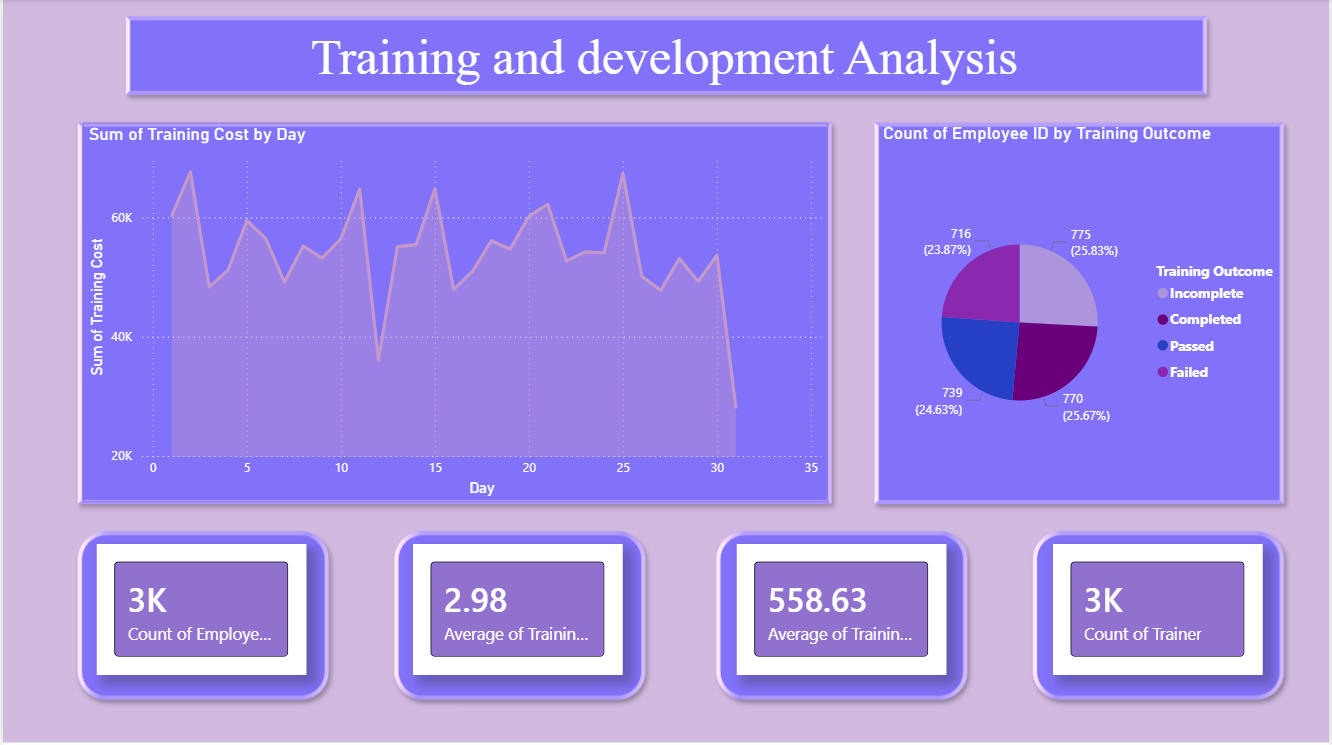

This screenshot's page, from the dashboard's own definition file:
{"tool":"powerbi","page":{"name":"Page 5","canvas":[1280,720],"ordinal":4},"visuals":[{"type":"textbox","box":[292,24,878,66],"z":0},{"type":"lineChart","fields":{"Category":["training_and_development_data.Training Date.Variation.Date Hierarchy.Day"],"Y":["Sum(training_and_development_data.Training Cost)"]},"box":[77.2,119.4,719,366.8],"z":1000},{"type":"cardVisual","fields":{"Data":["CountNonNull(training_and_development_data.Employee ID)"]},"box":[90,526,202,126],"z":2000},{"type":"cardVisual","fields":{"Data":["Avg(training_and_development_data.Training Duration(Days))"]},"box":[396,526,202,126],"z":3000},{"type":"cardVisual","fields":{"Data":["CountNonNull(training_and_development_data.Trainer)"]},"box":[1014,526,202,126],"z":4000},{"type":"cardVisual","fields":{"Data":["Avg(training_and_development_data.Training Cost)"]},"box":[708,526,202,126],"z":5000},{"type":"pieChart","fields":{"Category":["training_and_development_data.Training Outcome"],"Y":["CountNonNull(training_and_development_data.Employee ID)"]},"box":[844.5,119.4,401.7,366.8],"z":6000}]}

Visuals, with their boxes in screenshot pixels (x1, y1, x2, y2), scaled from the page's 1280x720 canvas onto the 1332x745 screenshot:
textbox: Rect(304, 25, 1218, 93)
lineChart - training_and_development_data.Training Date.Variation.Date Hierarchy.Day x Sum(training_and_development_data.Training Cost): Rect(80, 124, 829, 503)
cardVisual - CountNonNull(training_and_development_data.Employee ID): Rect(94, 544, 304, 675)
cardVisual - Avg(training_and_development_data.Training Duration(Days)): Rect(412, 544, 622, 675)
cardVisual - CountNonNull(training_and_development_data.Trainer): Rect(1055, 544, 1265, 675)
cardVisual - Avg(training_and_development_data.Training Cost): Rect(737, 544, 947, 675)
pieChart - training_and_development_data.Training Outcome x CountNonNull(training_and_development_data.Employee ID): Rect(879, 124, 1297, 503)
